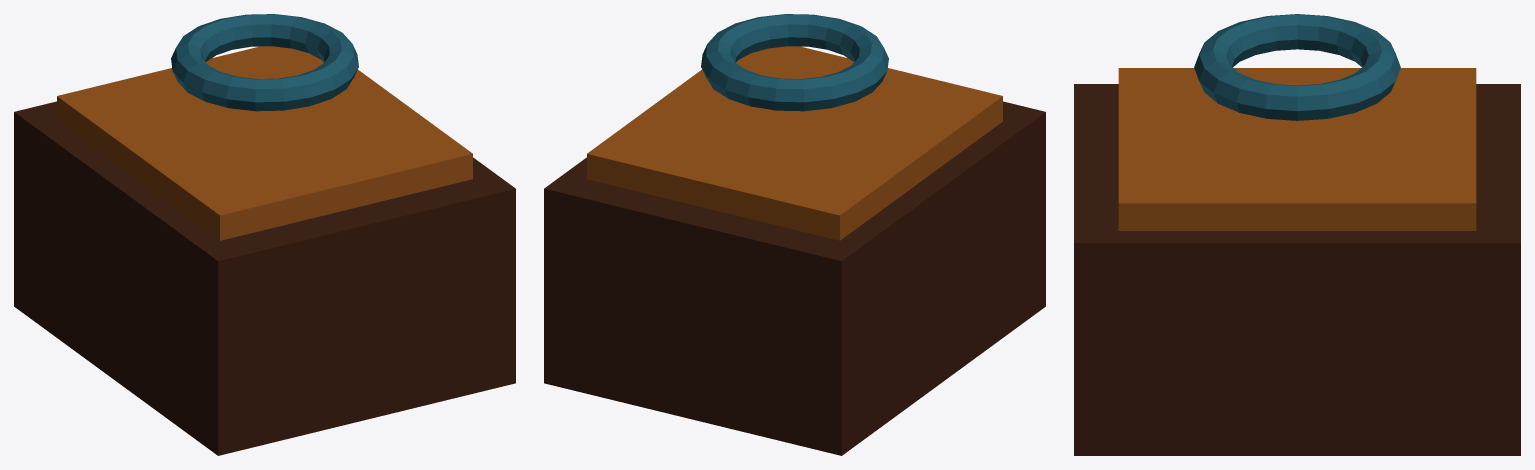
Rendered from delivery_cart.obj.
3 views of the same model, side by side, from view 1: azimuth 30°, elevation 25°; view 2: azimuth 150°, elevation 25°; view 3: azimuth 270°, elevation 25° (orthographic). The views are drawn at different scales.
Visible parts, largest first — view 1: dark_wood, brass, glass; view 2: dark_wood, brass, glass; view 3: dark_wood, brass, glass.
Part boxes in pixels (bbox=[...]): dark_wood: bbox=[14, 101, 515, 455]; brass: bbox=[57, 46, 472, 240]; glass: bbox=[171, 14, 358, 111]; dark_wood: bbox=[544, 101, 1045, 455]; brass: bbox=[587, 46, 1002, 240]; glass: bbox=[701, 14, 888, 111]; dark_wood: bbox=[1074, 84, 1520, 455]; brass: bbox=[1118, 68, 1476, 230]; glass: bbox=[1194, 14, 1400, 120].
Bounding box in the file's own units: 0.8 × 0.765 × 0.95.
